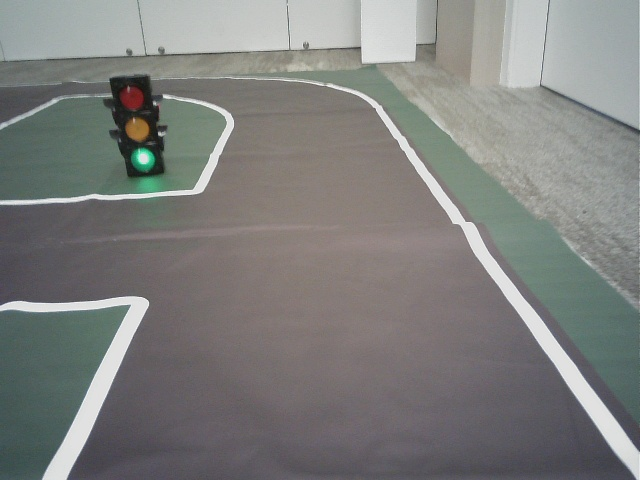green: (113, 79, 161, 171)
